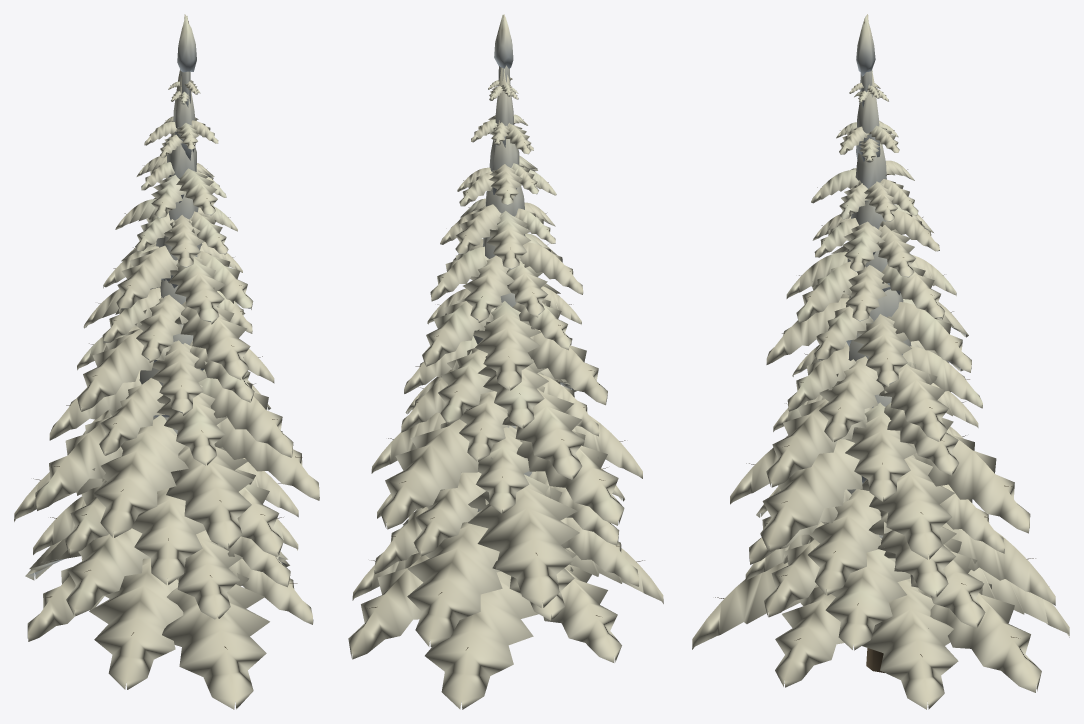
3 renders of one model, left to right at view 1: azimuth 30°, elevation 25°; view 2: azimuth 150°, elevation 25°; view 3: azimuth 270°, elevation 25°, orthographic. The views are drawn at different scales.
Parts seen in each view (by area): view 1: crown; view 2: crown; view 3: crown.
Part boxes in pixels (bbox=[...]): crown: bbox=[14, 14, 319, 709]; crown: bbox=[348, 14, 663, 709]; crown: bbox=[692, 14, 1069, 709].
Bounding box in the file's own units: 6.8 × 15.7 × 8.21.
